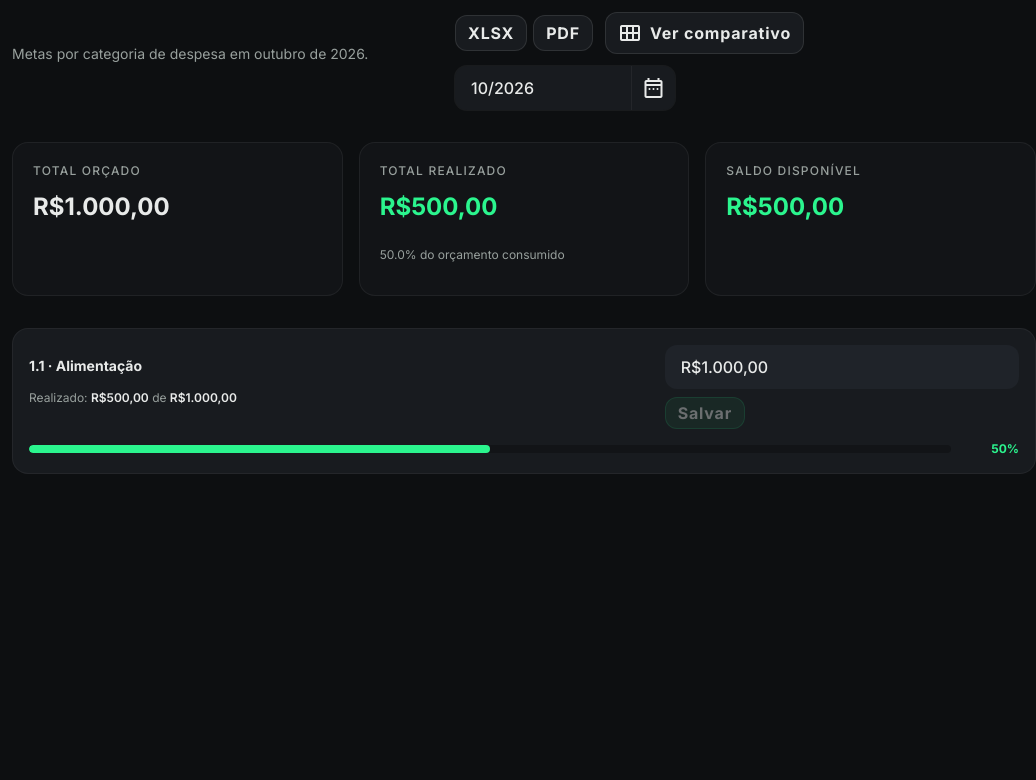
OrcamentoPage › shows handleSalvarMeta error when API throws
Expected: the text "1.1 · Alimentação" is shown, [29,357,142,374]
Step 1. Replace the text in the field named "Meta de Alimentação" with "1500" → (842, 367), box [665,345,1019,389]
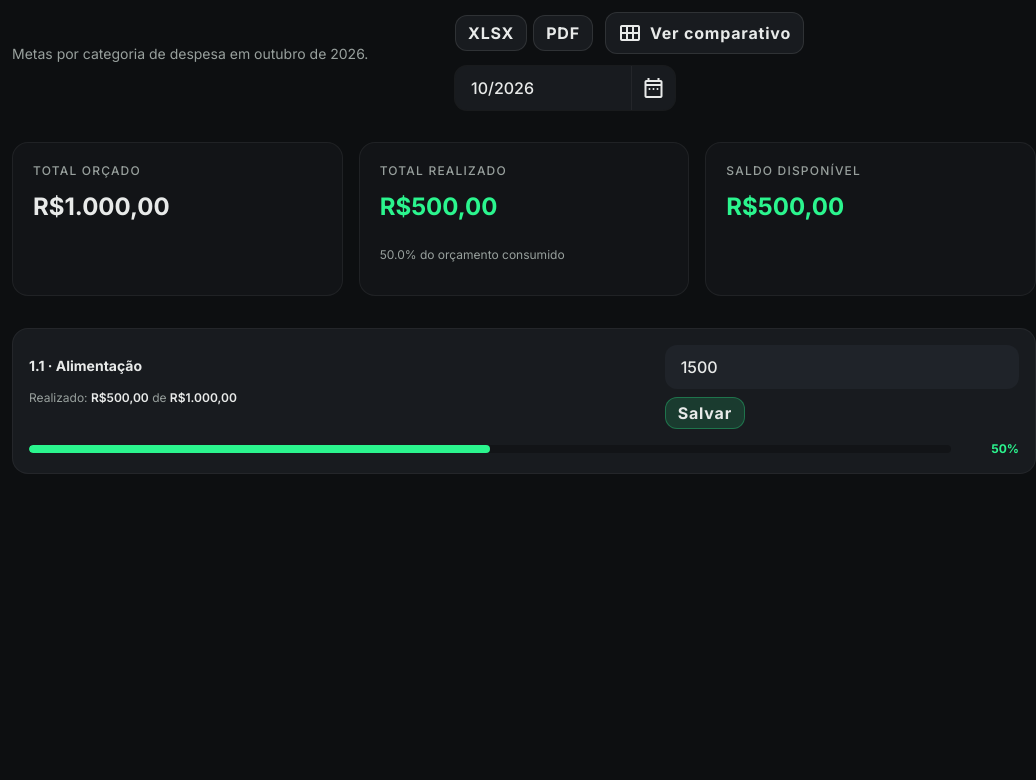
Step 2. Click the button "Salvar" → (705, 413), box [665,397,745,429]
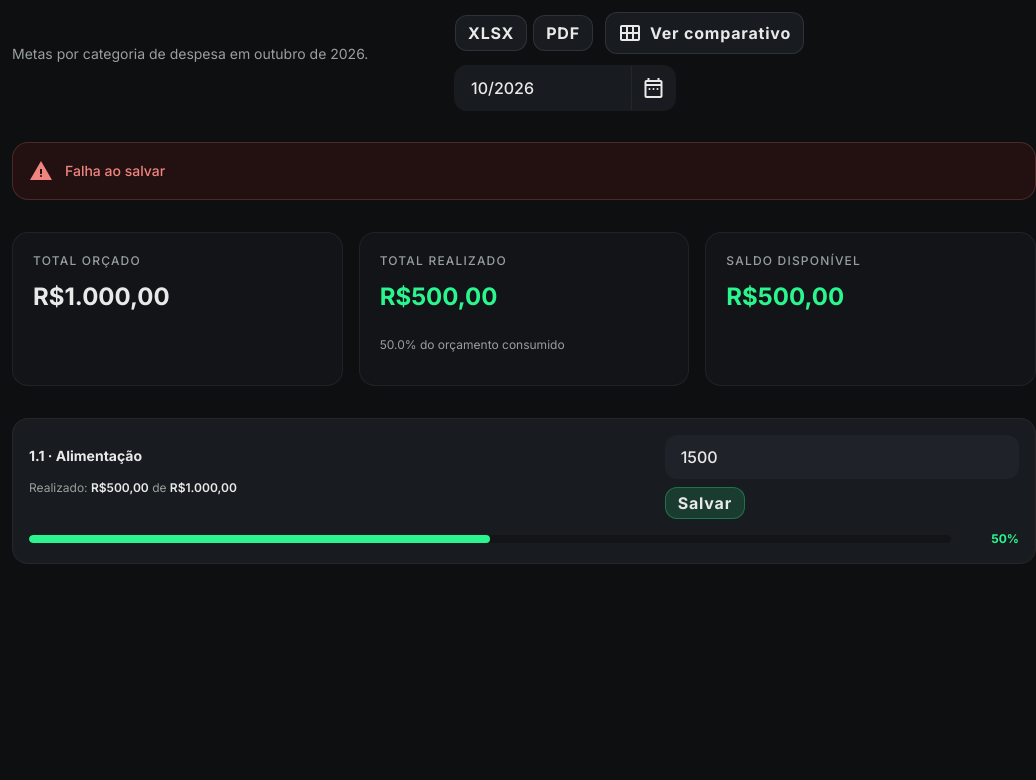
Now the text "Falha ao salvar" is shown, box [65,161,165,181]
